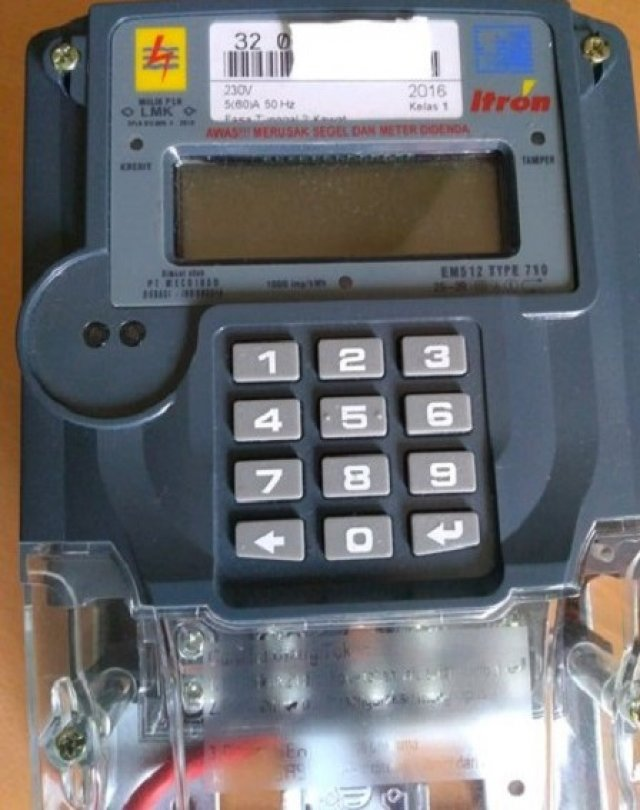box: (173, 156, 518, 261)
